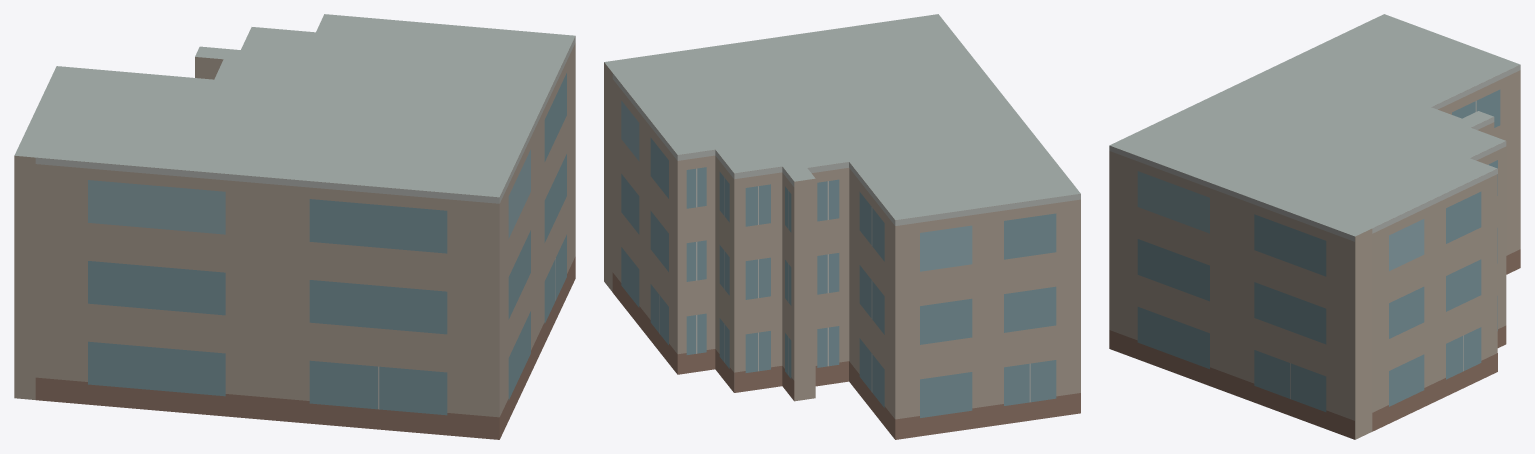
File: survey-upis-32817590.glb
3 views of the same model, side by side, from view 1: azimuth 30°, elevation 25°; view 2: azimuth 150°, elevation 25°; view 3: azimuth 270°, elevation 25° (orthographic). The views are drawn at different scales.
Visible parts, largest first — view 1: survey-upis-32817590.tmp; view 2: survey-upis-32817590.tmp; view 3: survey-upis-32817590.tmp.
Boxes of the visible parts, bbox=[...] form: survey-upis-32817590.tmp: bbox=[14, 14, 575, 439]; survey-upis-32817590.tmp: bbox=[604, 14, 1080, 439]; survey-upis-32817590.tmp: bbox=[1109, 14, 1520, 439].
Size of the model in its own units: 21.48 by 9.15 by 16.78.
